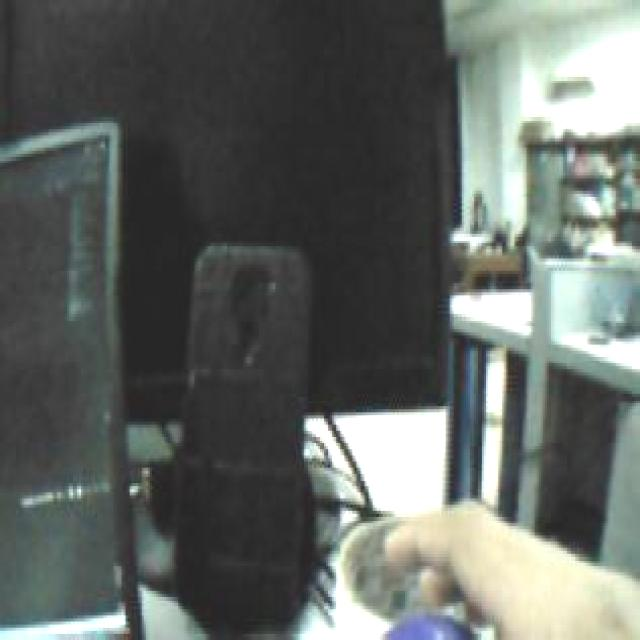BallPurple: (377, 611, 481, 640)
